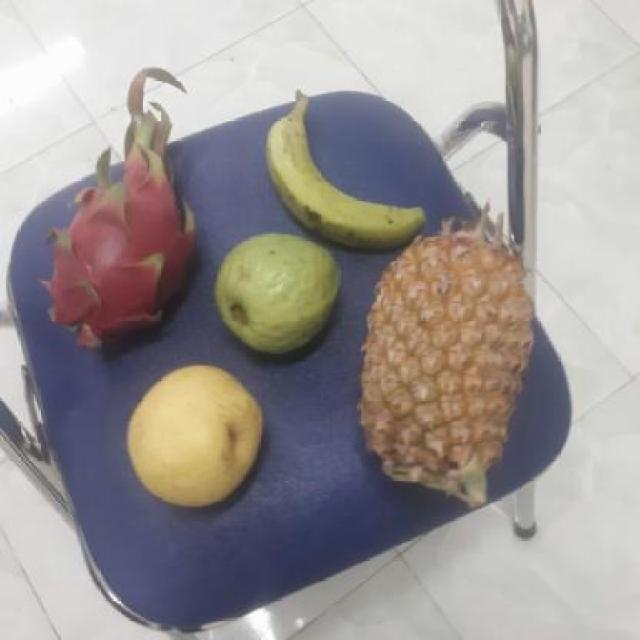banana: (265, 105, 427, 249)
dragon fruit: (49, 165, 203, 350)
guava: (215, 232, 343, 352)
pear: (125, 366, 270, 509)
pineapple: (361, 220, 544, 509)
